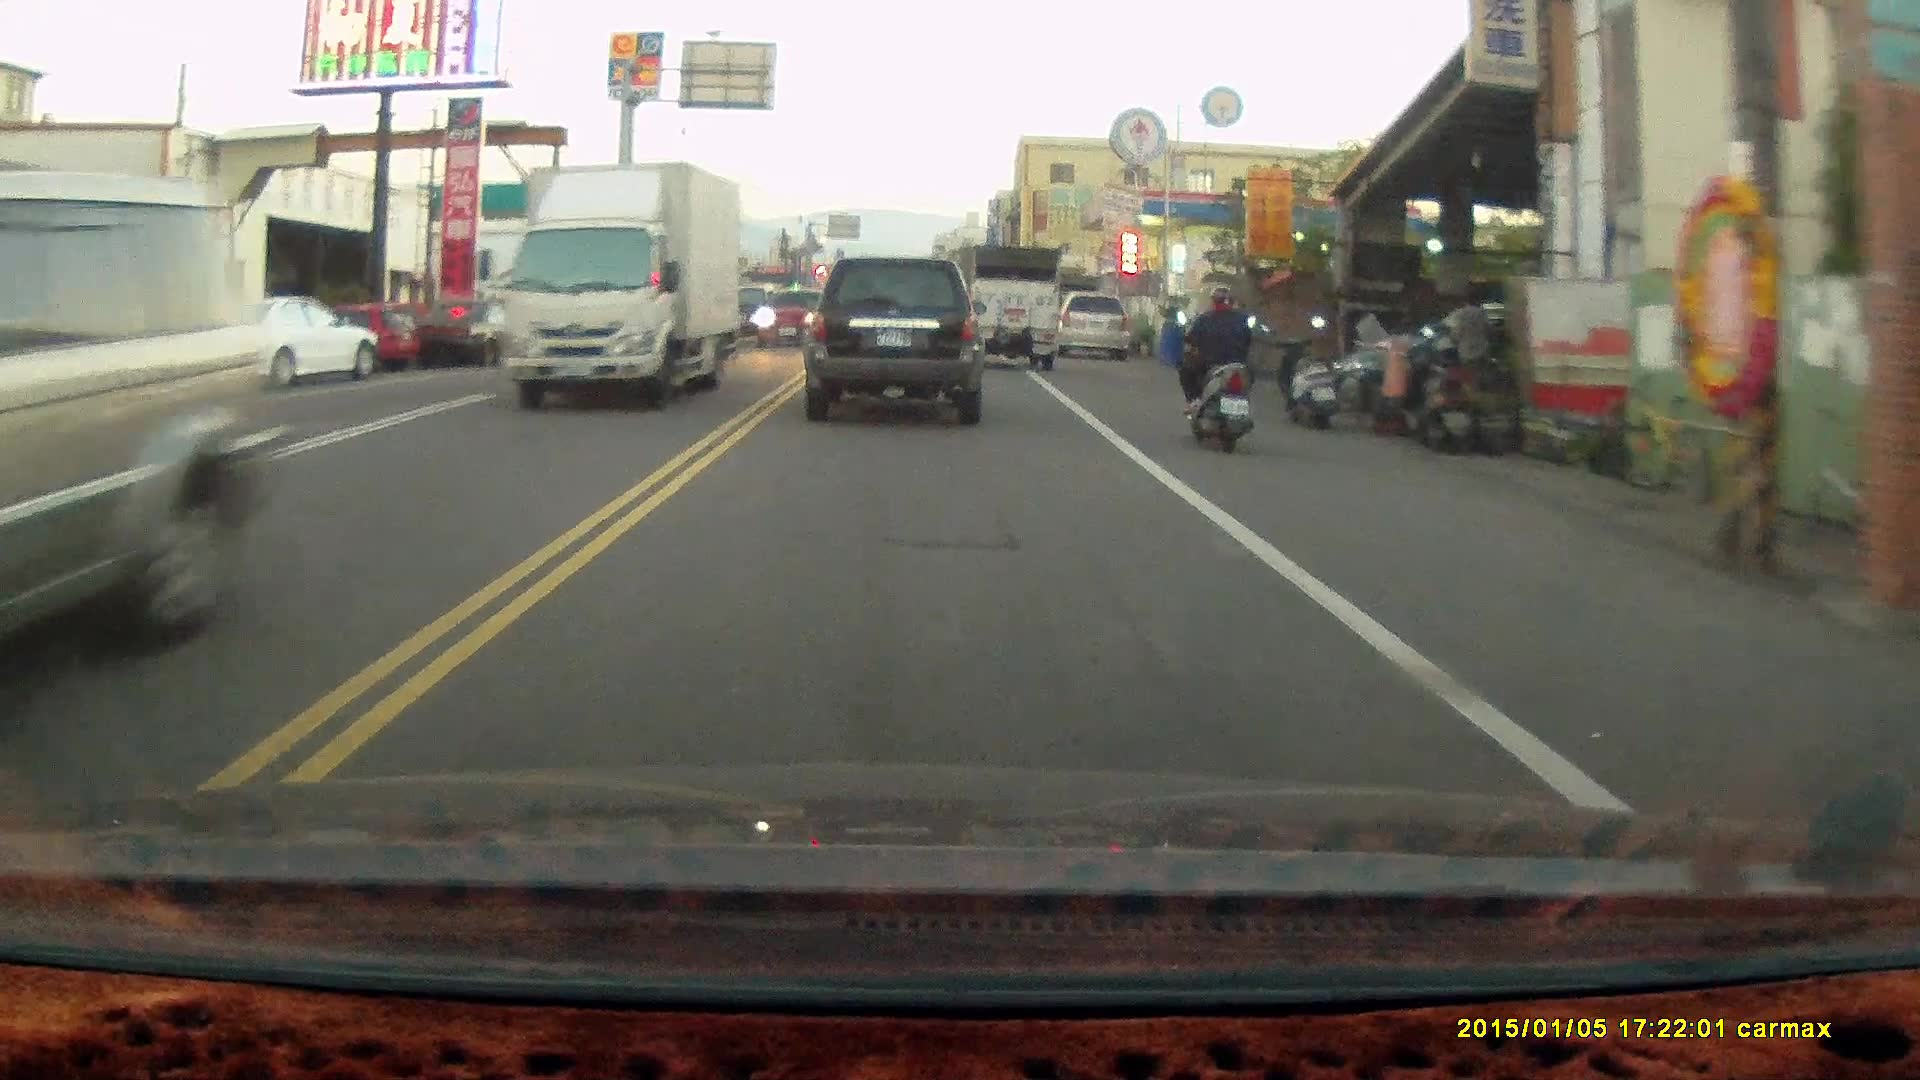pedestrian: (1447, 285, 1495, 417)
rider: (1172, 278, 1258, 451)
vehicle: (1, 171, 307, 695), (503, 155, 748, 409), (799, 249, 986, 422), (969, 237, 1062, 365), (1055, 285, 1131, 357)
